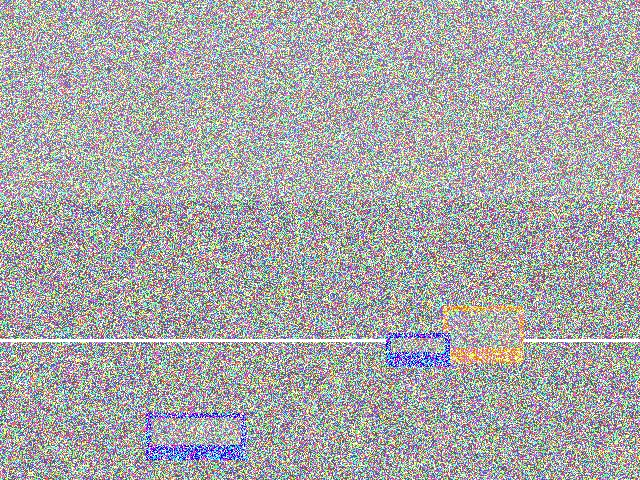motorcycle: (353, 320, 538, 393)
